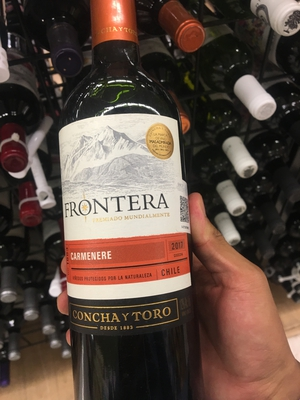frontera carmenere: (43, 8, 218, 397)
